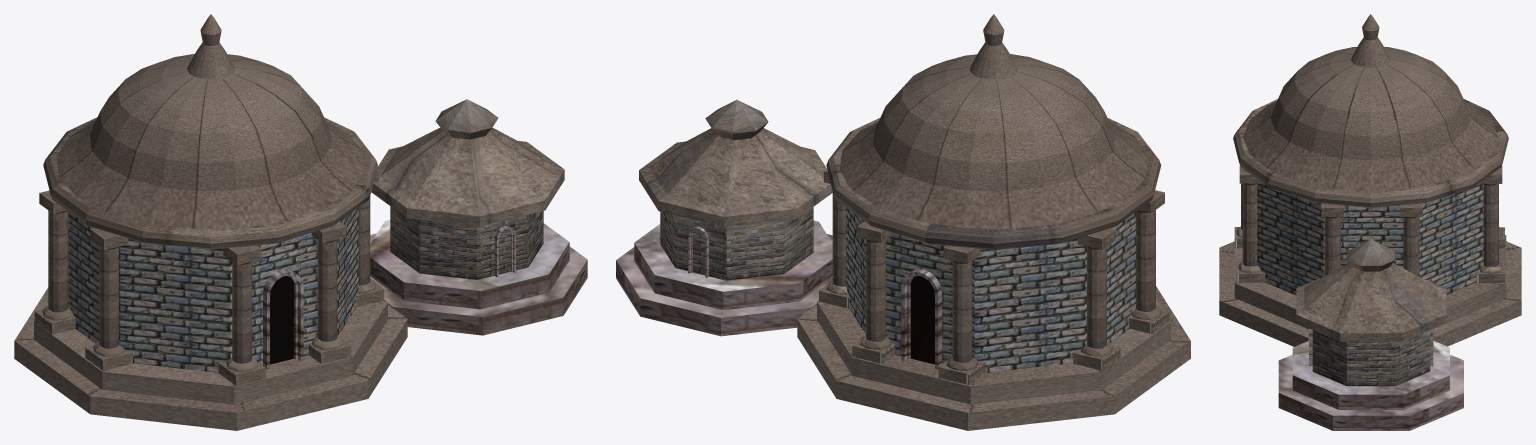
File: ResearchFacility_stage3.fbx
The picture shows the model from 3 angles, left to right: view 1: azimuth 30°, elevation 25°; view 2: azimuth 150°, elevation 25°; view 3: azimuth 270°, elevation 25°; orthographic projection. The views are drawn at different scales.
Visible parts, largest first — view 1: polySurface50; view 2: polySurface50; view 3: polySurface50.
Part boxes in pixels (left/top/right/bottom): polySurface50: left=14, top=14, right=587, bottom=430; polySurface50: left=616, top=14, right=1190, bottom=430; polySurface50: left=1219, top=14, right=1521, bottom=430.
Size of the model in its own units: 85.84 by 53.4 by 53.17.
3 materials, 3 textured.
